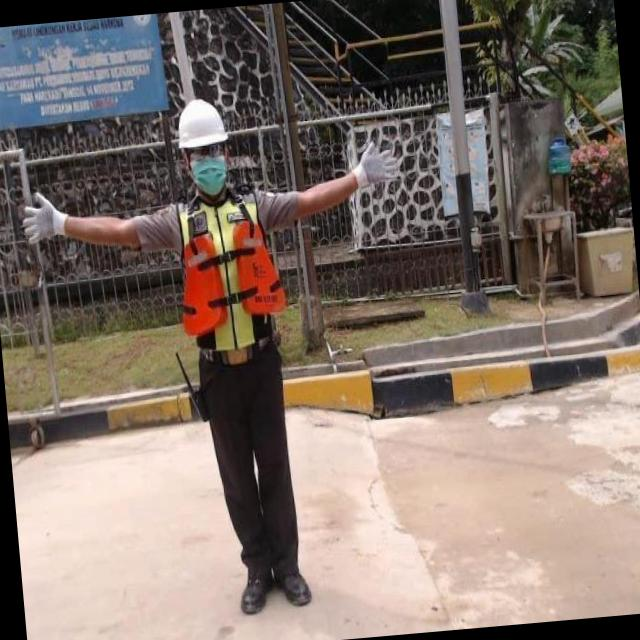hard_hat: (165, 96, 222, 152)
safety_vest: (174, 185, 289, 352)
vehicle: (0, 63, 479, 640)
work_boots: (238, 565, 278, 620), (274, 562, 315, 612)
